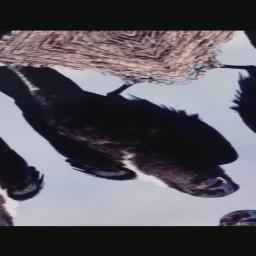Crow: (0, 38, 256, 218)
